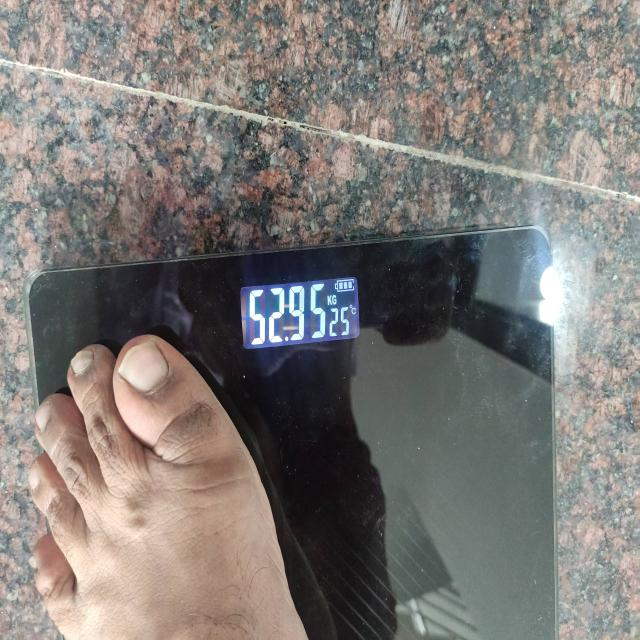ws: (29, 225, 564, 640)
